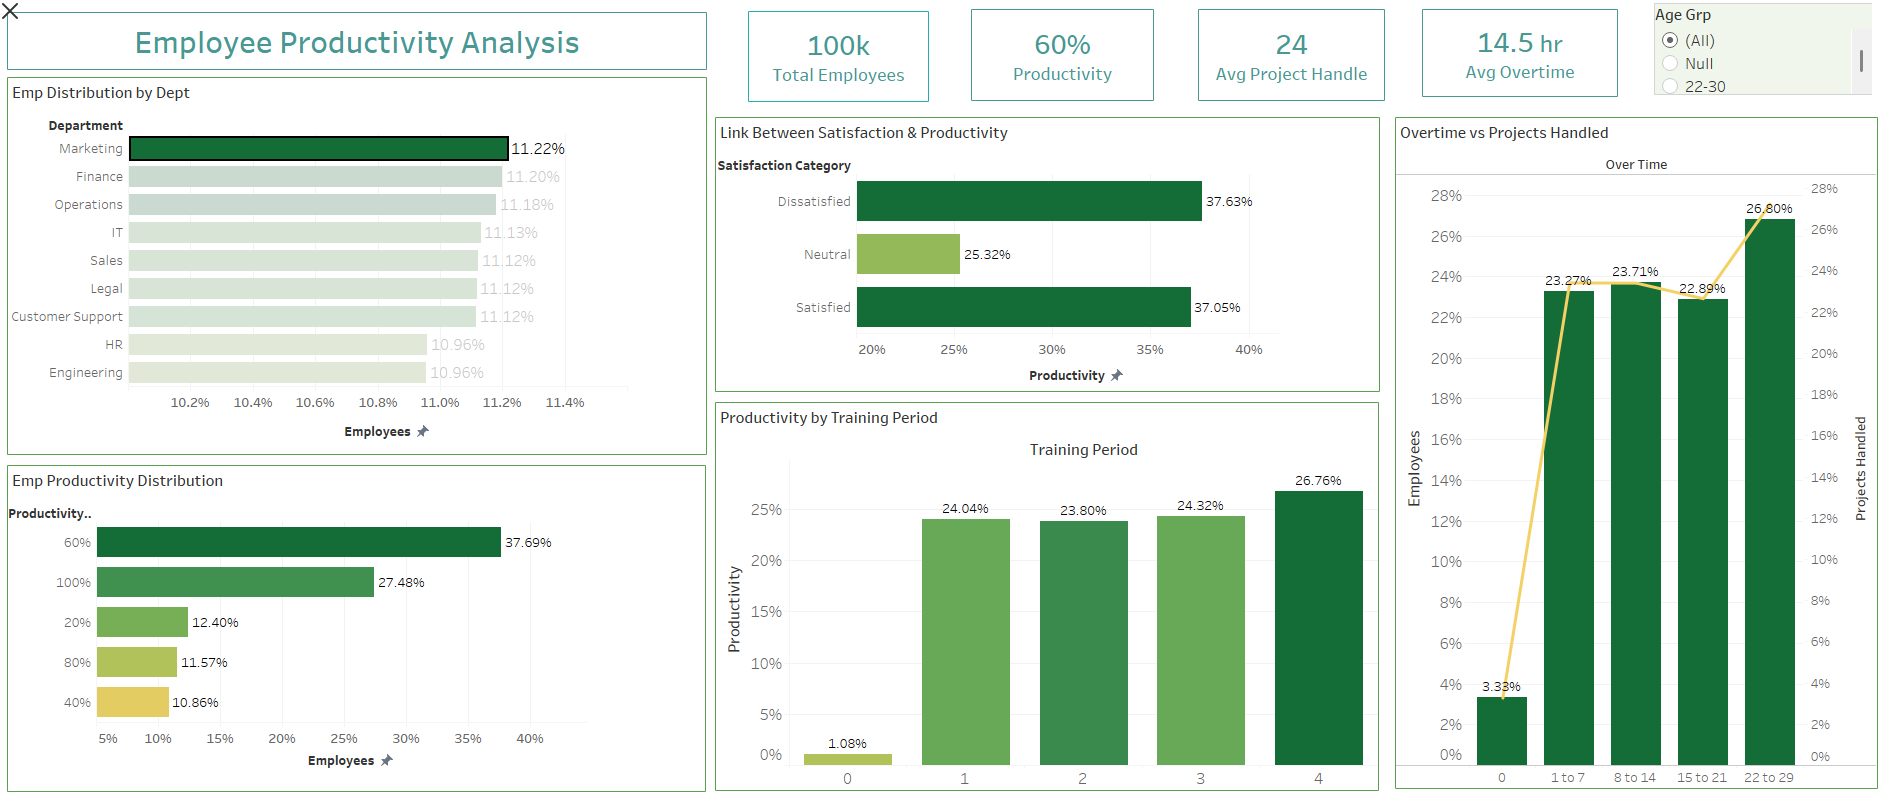

Layout of this report page (visuals, bound fields, positions):
{"tool":"tableau","page":{"name":"Dashboard 1","canvas":[1000,1000],"units":"permille","ordinal":0},"visuals":[{"type":"dashboard-object","box":[0,0,12.7,30]},{"type":"filter","title":"Emp Productivity Distribution","param":"[federated.0xjf72e1ad9c7l1g643wo0piiikt].[none:Age Grp:nk]","box":[876.9,5,115.9,114.9]},{"type":"text","box":[515.4,12.5,97.2,114.9]},{"type":"text","box":[635.5,12.5,99,114.9]},{"type":"text","box":[754.4,12.5,103.8,109.9]},{"type":"text","box":[397.2,15,95.9,113.6]},{"type":"text","box":[4.8,16.2,370.6,72.4]},{"type":"worksheet","title":"Emp Distribution by Dept","mark":"Automatic","rows":["Department"],"cols":["Employee_ID"],"box":[4.8,97.4,370.8,471.9]},{"type":"worksheet","title":"Link Between Satisfaction & Productivity","mark":"Automatic","rows":["Satisfaction Category"],"cols":["Productivity"],"box":[379.6,147.3,352.4,343.3]},{"type":"worksheet","title":"Overtime vs Projects Handled","mark":"Line","rows":["Projects_Handled"],"cols":["OverTime"],"box":[739.9,147.3,255.8,839]},{"type":"worksheet","title":"Productivity by Training Period","mark":"Bar","cols":["Training Period"],"box":[379.8,503.1,351.7,485.6]},{"type":"worksheet","title":"Emp Productivity Distribution","mark":"Automatic","rows":["Productivity Value"],"cols":["Employee_ID"],"box":[4.8,581.8,370.2,408.2]}]}

Visuals, with their boxes on the dashboard's canvas, which has no fixed pixel size, in thousandths of its width and height (x1, y1, x2, y2). These are canvas units, not pixel positions in the 1886x796 screenshot, which may show the page scaled, cropped or inside an application window:
dashboard-object: <bbox>0, 0, 13, 30</bbox>
"Emp Productivity Distribution" filter: <bbox>877, 5, 993, 120</bbox>
text: <bbox>515, 12, 613, 127</bbox>
text: <bbox>636, 12, 734, 127</bbox>
text: <bbox>754, 12, 858, 122</bbox>
text: <bbox>397, 15, 493, 129</bbox>
text: <bbox>5, 16, 375, 89</bbox>
"Emp Distribution by Dept" worksheet: <bbox>5, 97, 376, 569</bbox>
"Link Between Satisfaction & Productivity" worksheet: <bbox>380, 147, 732, 491</bbox>
"Overtime vs Projects Handled" worksheet (Line marks): <bbox>740, 147, 996, 986</bbox>
"Productivity by Training Period" worksheet (Bar marks): <bbox>380, 503, 732, 989</bbox>
"Emp Productivity Distribution" worksheet: <bbox>5, 582, 375, 990</bbox>
